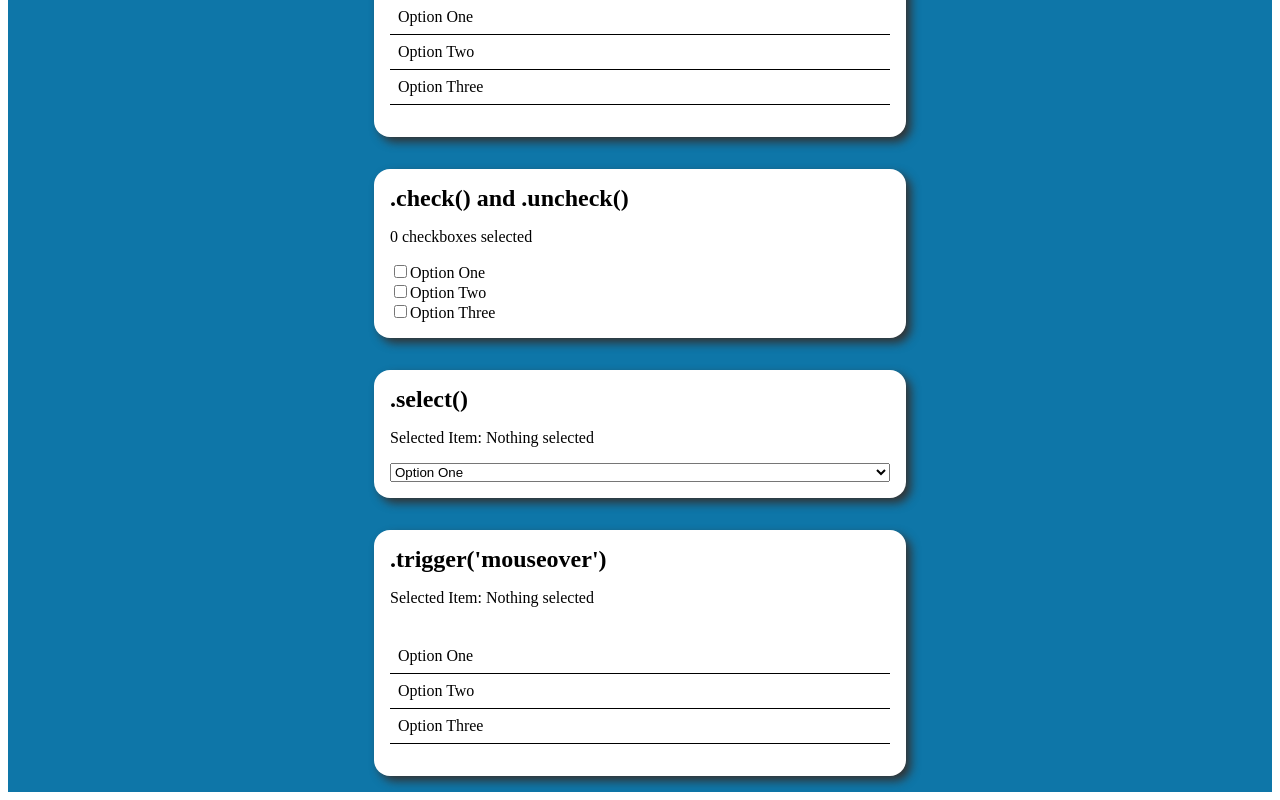
Scenario: Basic page interactions › Mouse › should display name of hovered item
(page scrolled)
Hover over the list item "Option Two" below ".trigger('mouseover')" at (640, 692), box [390,674,890,709]
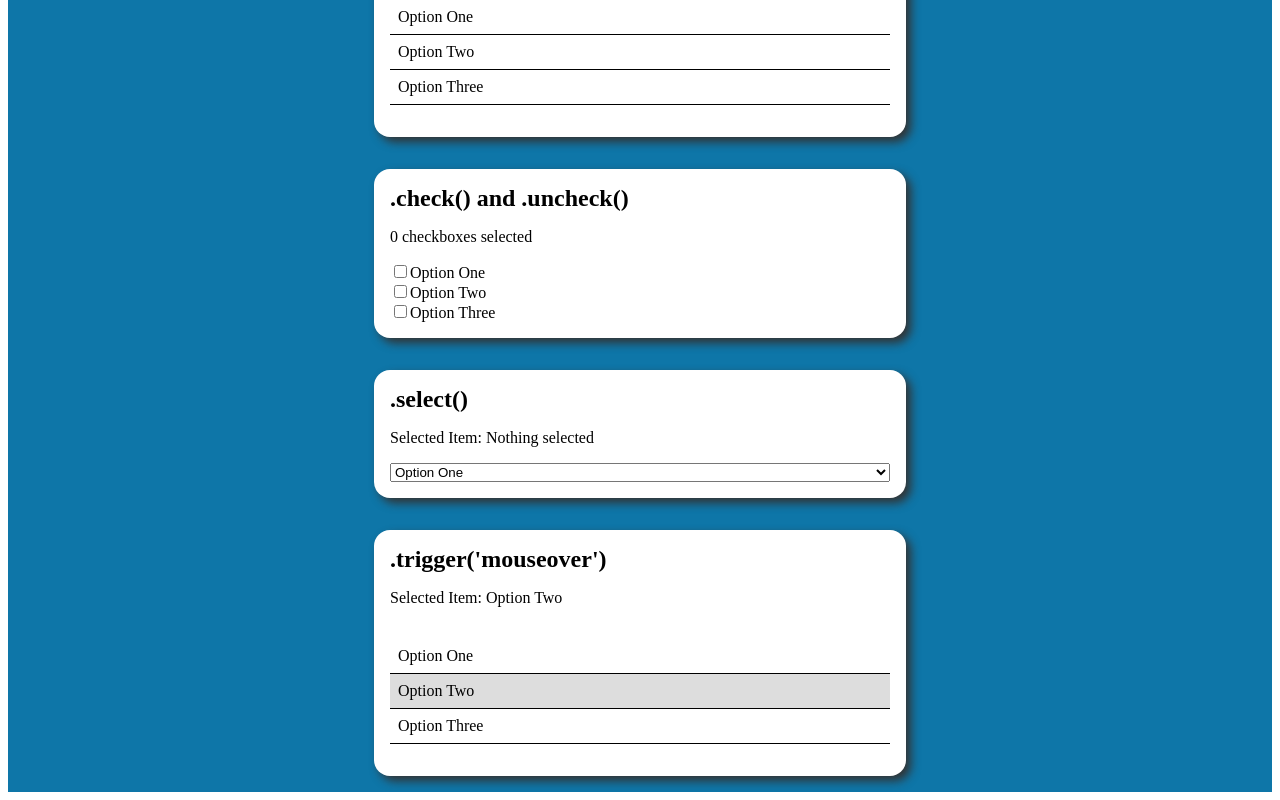
Check: the text with test id "box-4-selected-name" reads "Option Two", box [486,589,562,606]
